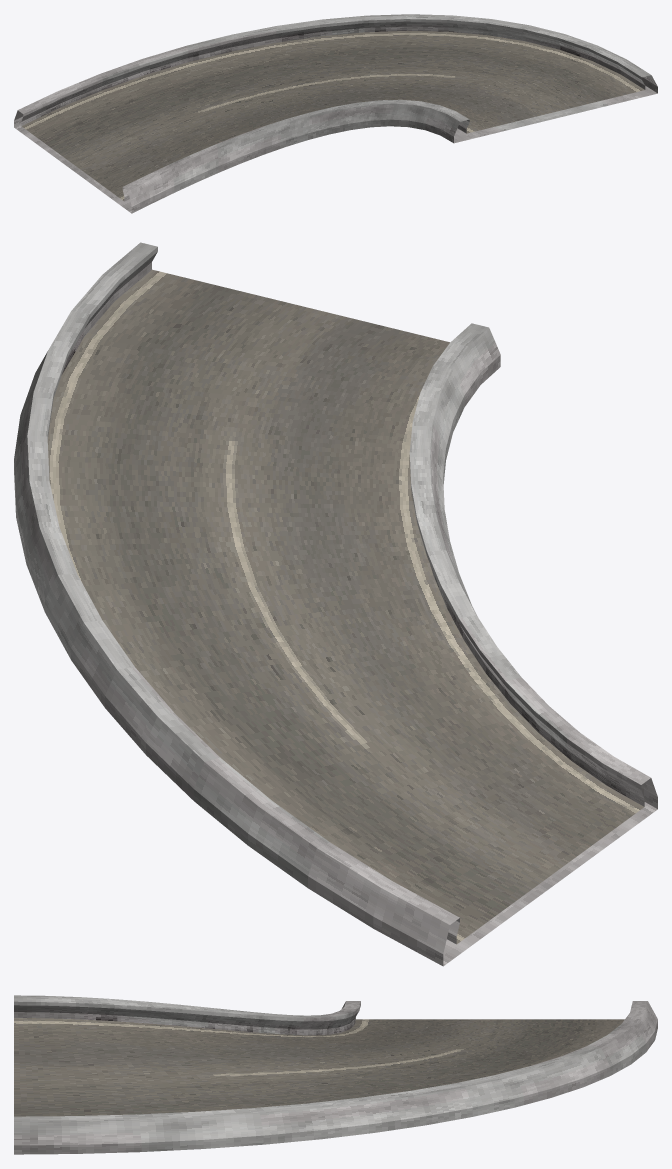
Rendered from turn-left2x2.glb.
3 renders of one model, top to bottom at view 1: azimuth 30°, elevation 25°; view 2: azimuth 150°, elevation 25°; view 3: azimuth 270°, elevation 25°, orthographic. The views are drawn at different scales.
Visible parts, largest first — view 1: road-Turn-Flat-BiSlopeDown-Down2-Left-Size2; view 2: road-Turn-Flat-BiSlopeDown-Down2-Left-Size2; view 3: road-Turn-Flat-BiSlopeDown-Down2-Left-Size2.
Part boxes in pixels (x1,y1,x2,y2): road-Turn-Flat-BiSlopeDown-Down2-Left-Size2: (14,14,657,213); road-Turn-Flat-BiSlopeDown-Down2-Left-Size2: (14,242,657,966); road-Turn-Flat-BiSlopeDown-Down2-Left-Size2: (14,995,657,1154).
Bounding box in the file's own units: 2 × 0.5938 × 2.
Materials: 2 (2 with a texture image).
